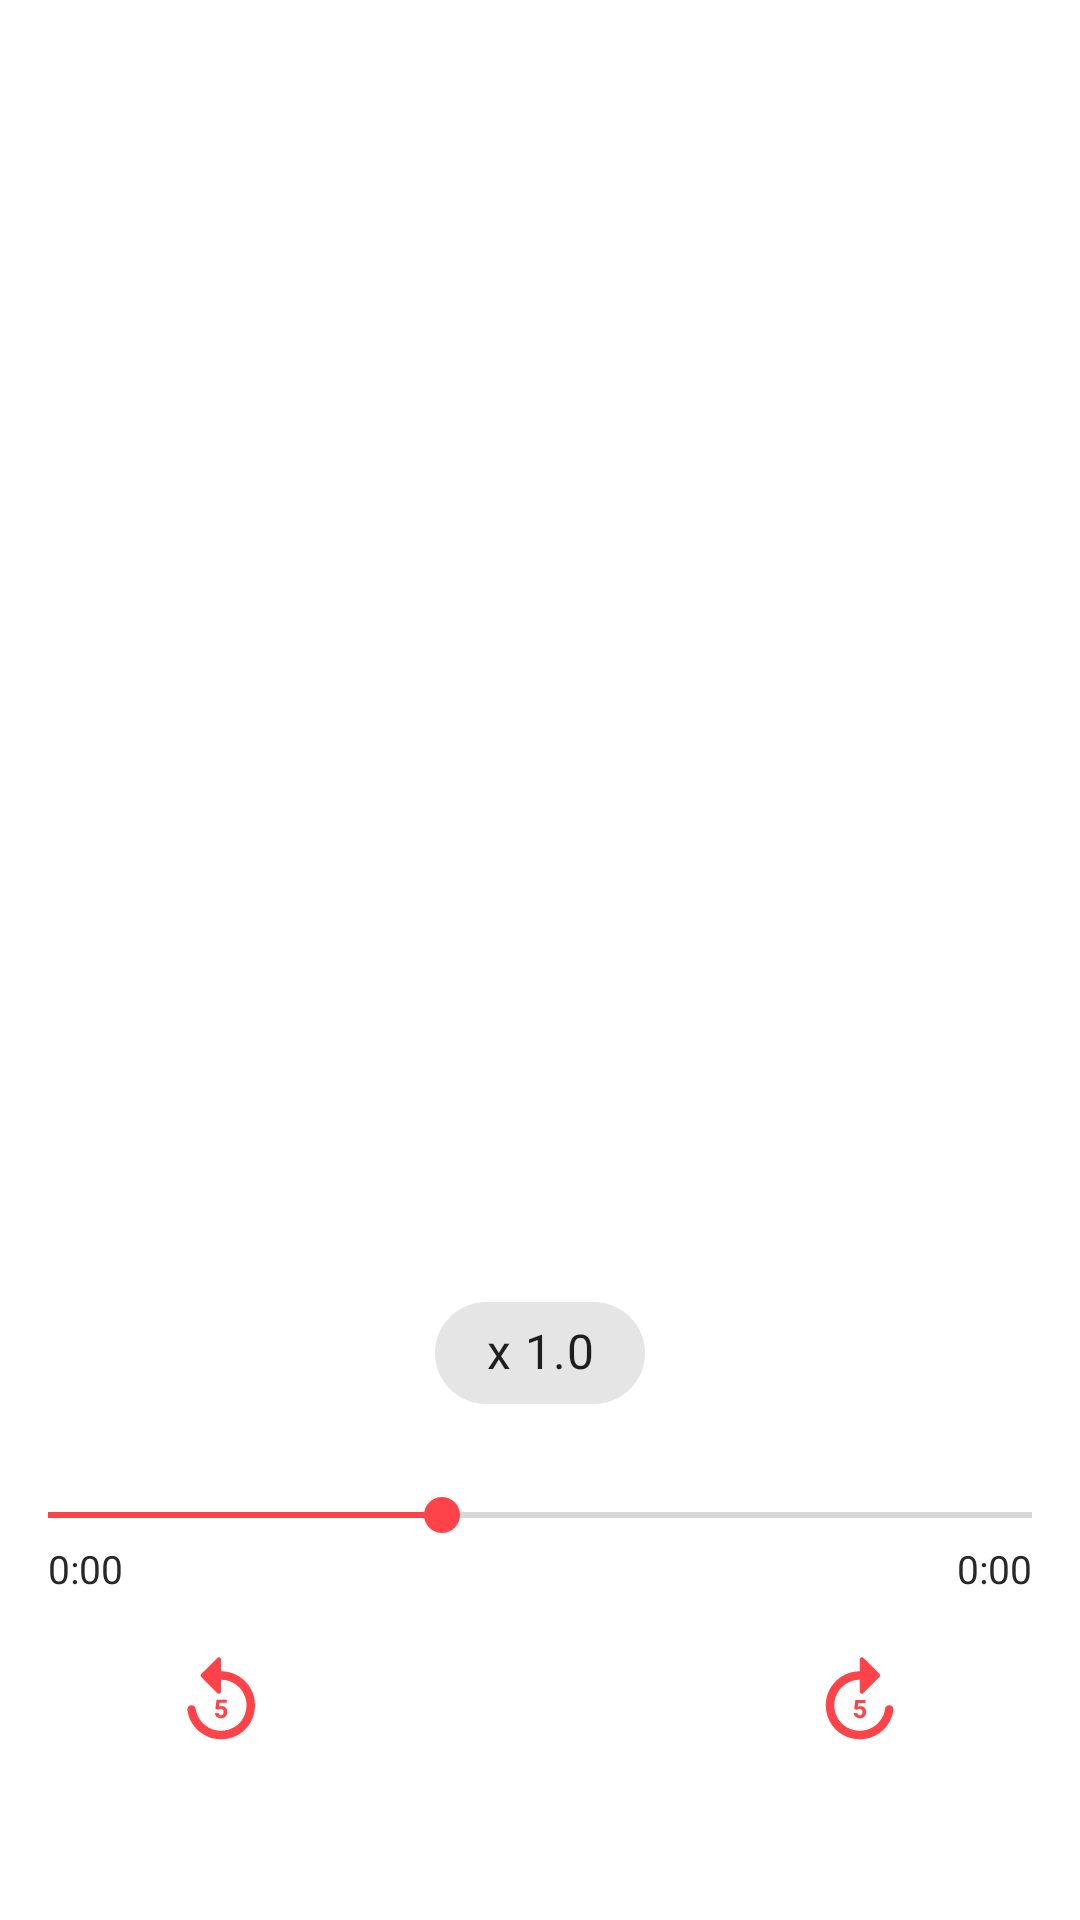

Named icons in this screenshot (1080 x 1920) and their centers, (x,y):
backward: (221,1698)
forward: (859,1698)
